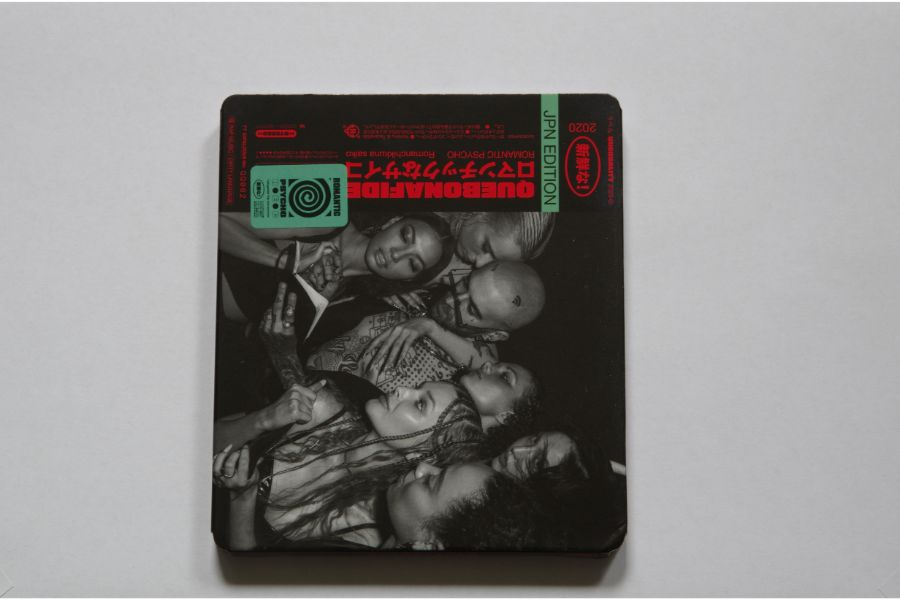album: (211, 91, 631, 556)
